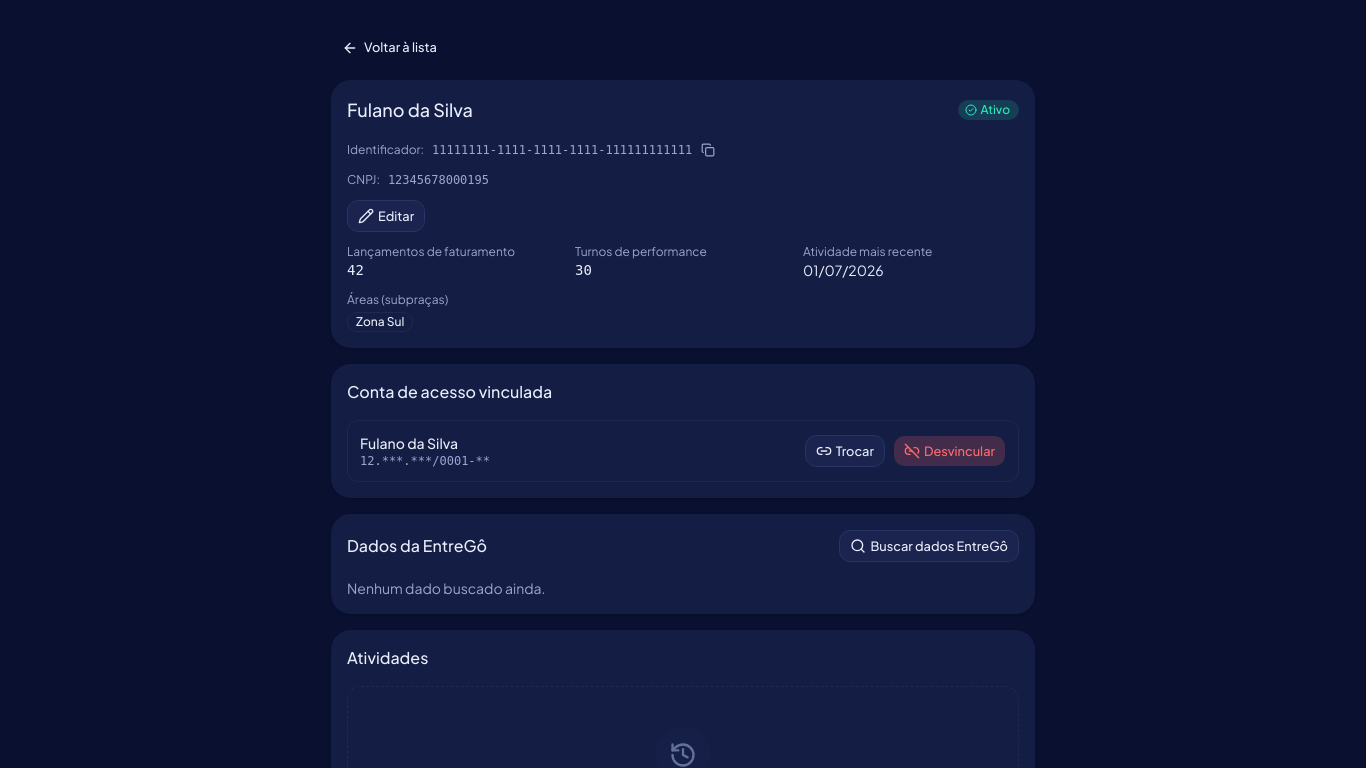
Scenario: MotoristaDetalhePage › erro ao desvincular mostra mensagem sem quebrar a tela
What coordinates should you click on to do the following:
click the button "Desvincular"
I would click on:
 (950, 451)
Its box is [893,435,1006,467].
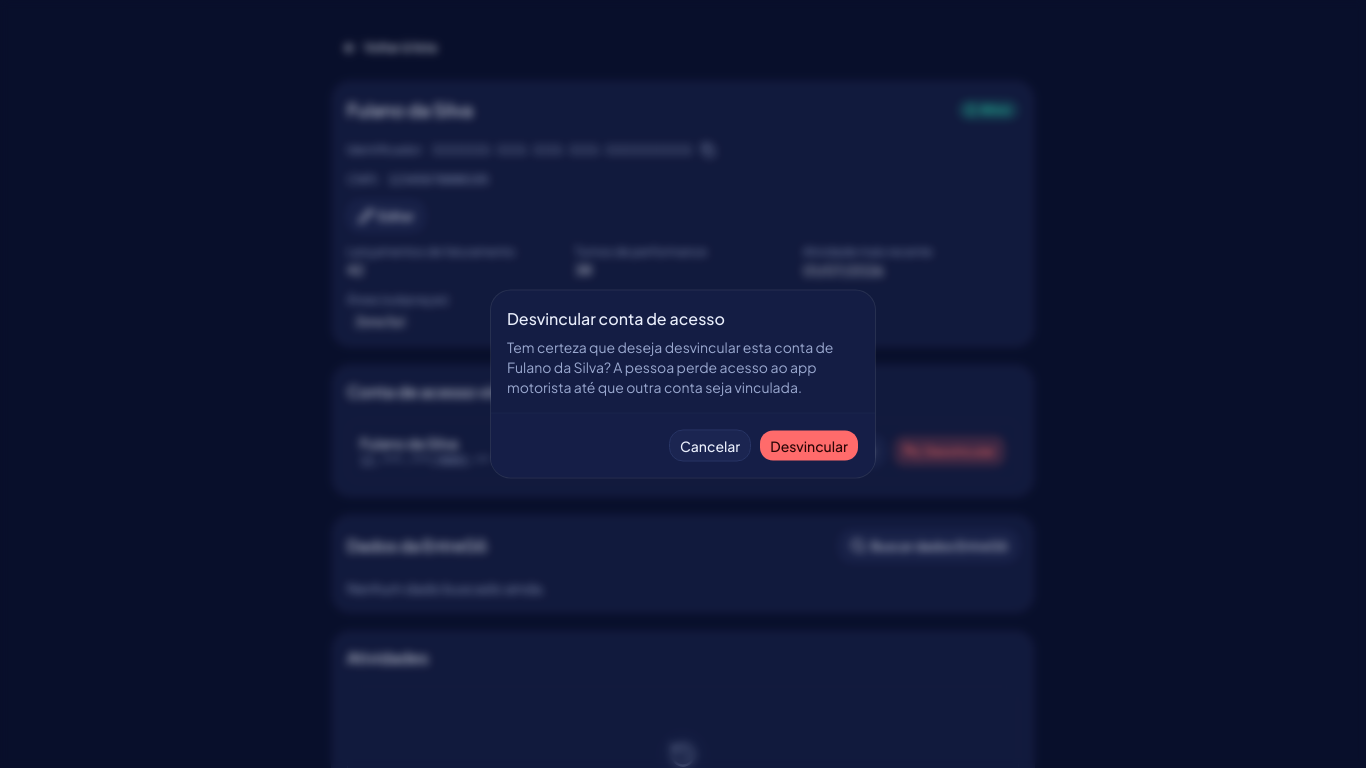
What coordinates should you click on to do the following:
click the button "Desvincular"
I would click on:
 (809, 446)
Its box is [759,430,859,462].
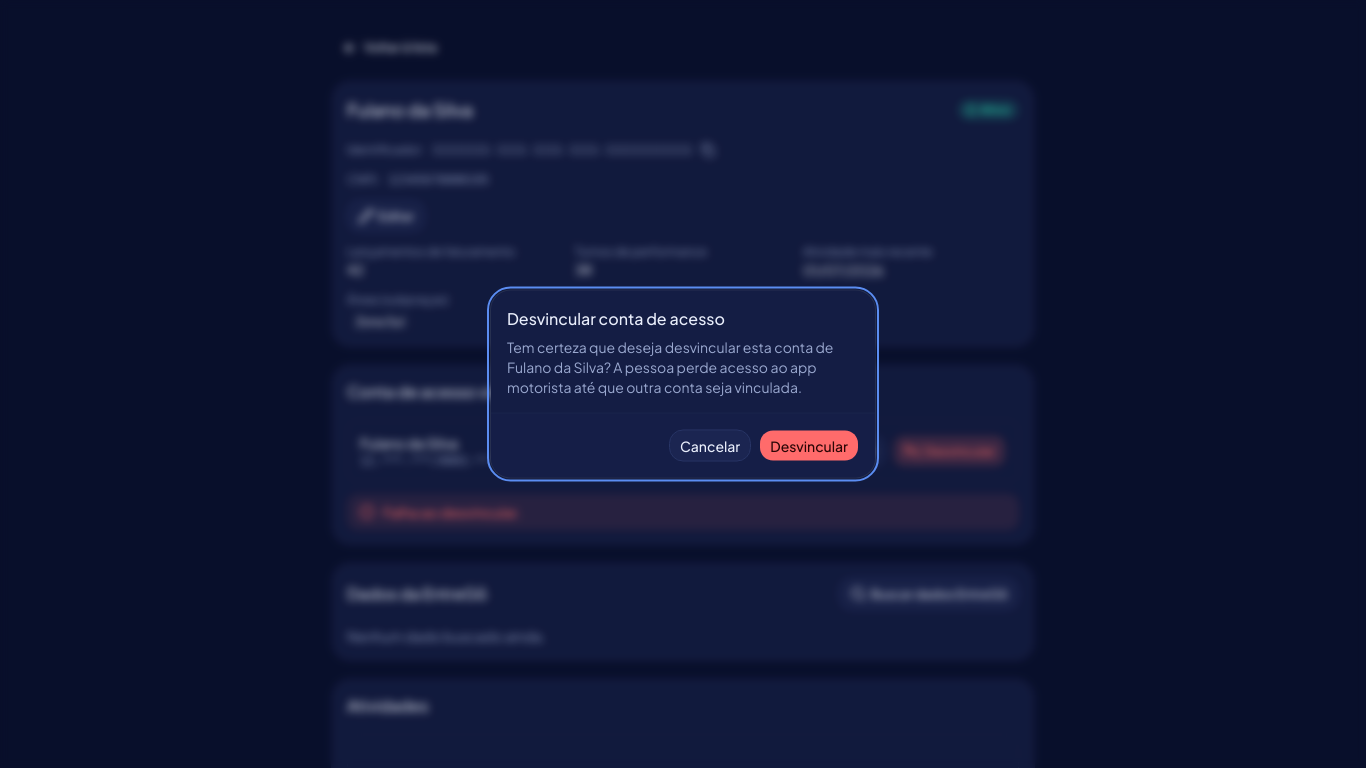
Result: the text "Falha ao desvincular." is shown at [347,494,1019,530]
